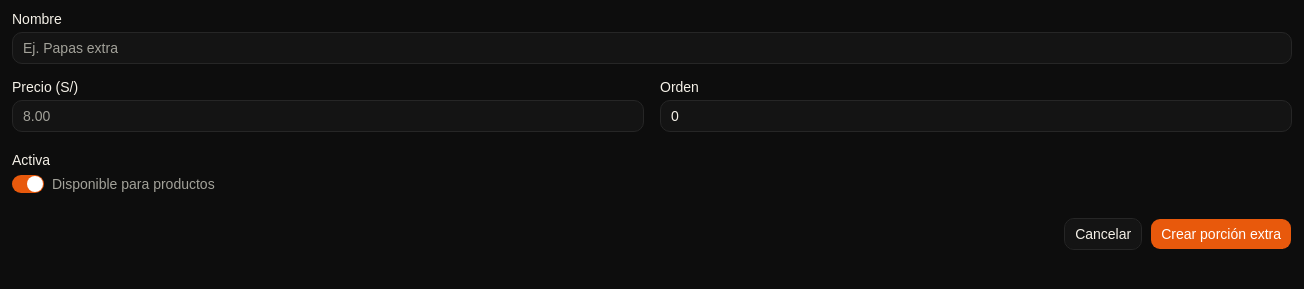
Test case: ExtraPortionForm › rechaza un precio de 0 o negativo
Type "Queso extra" into the field labelled "Nombre" at (652, 48), box 12,32 -> 1292,64
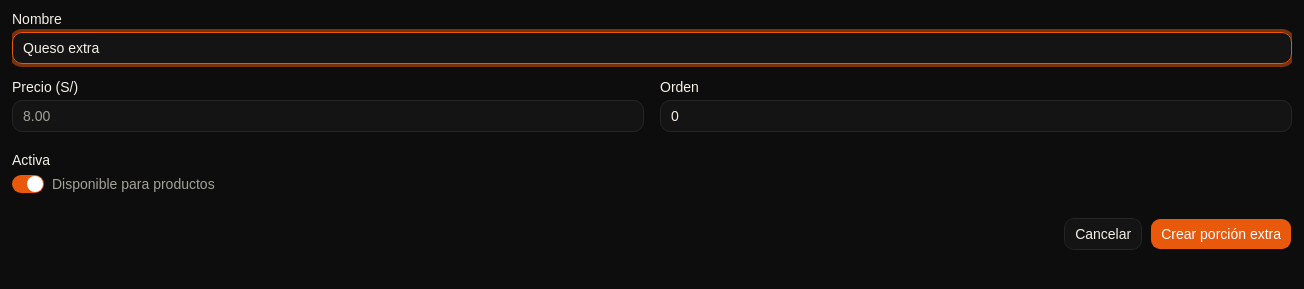
Type "0" into the number field labelled "Precio (S/)" at (328, 116), box 12,100 -> 644,132
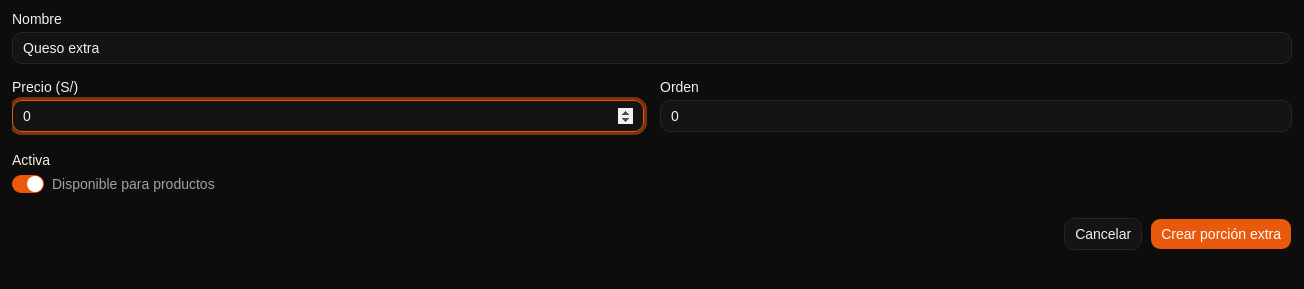
Click the button "Crear porción extra" at (1221, 234), box 1150,218 -> 1292,250
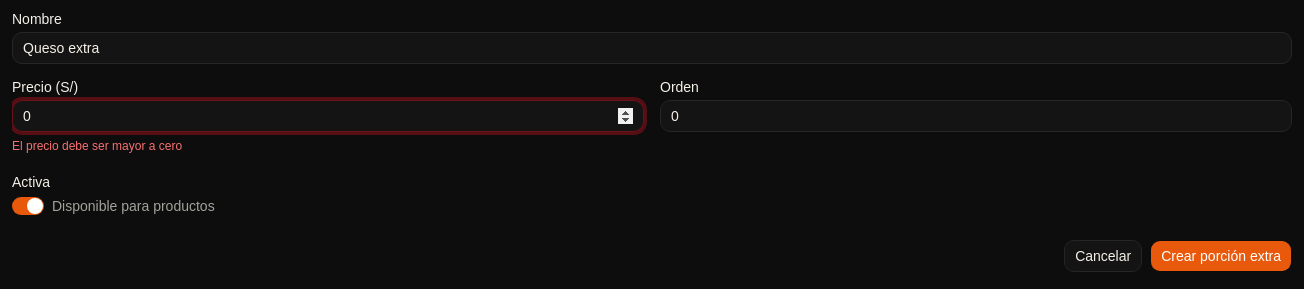
Expected: the text "El precio debe ser mayor a cero" is shown, 12,139 -> 182,153
